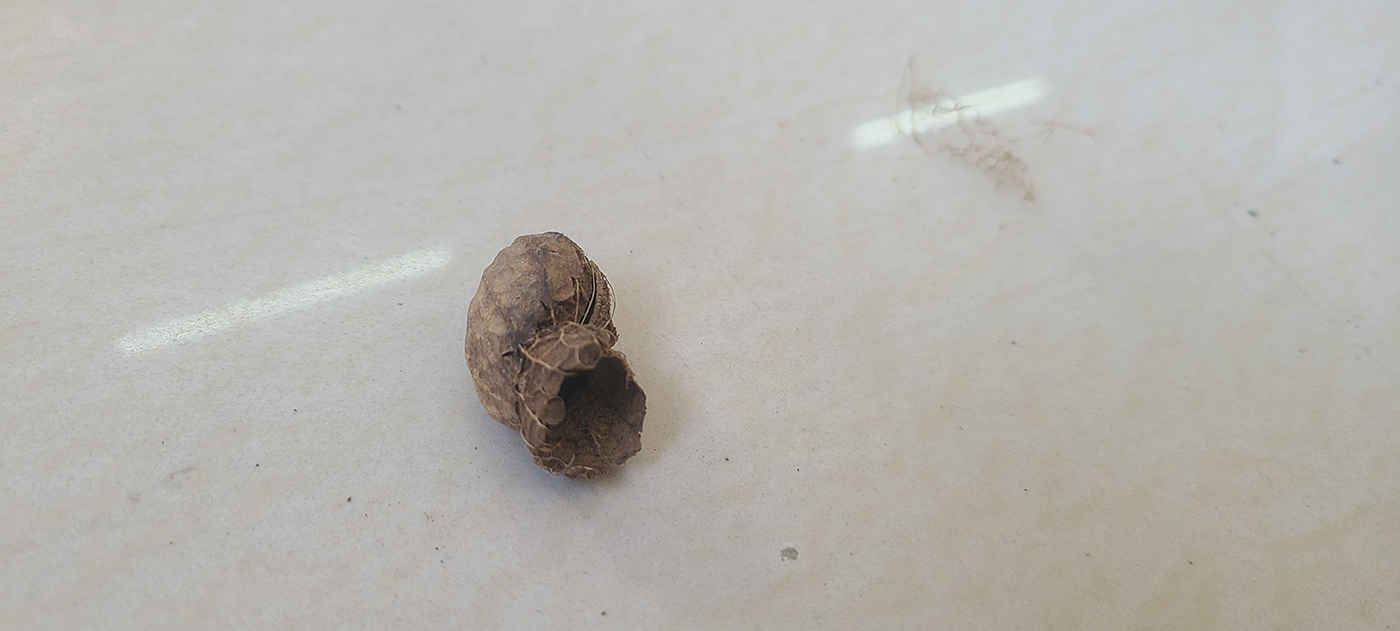l: (462, 229, 646, 477)
